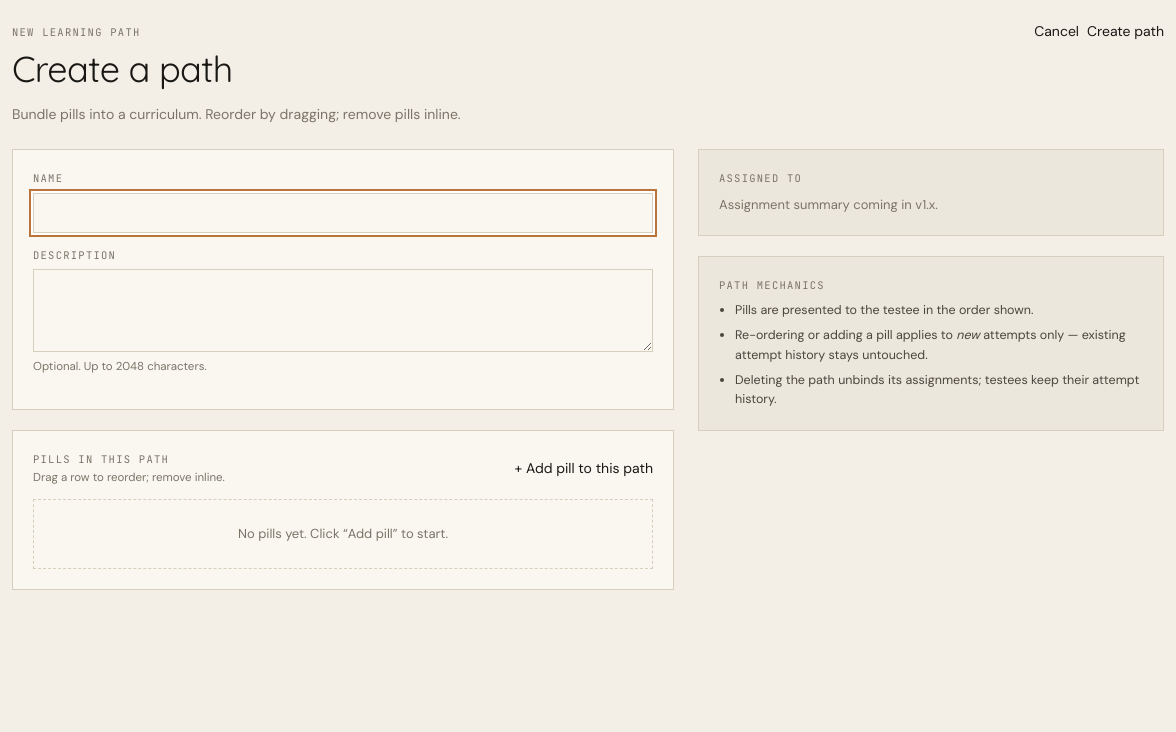
path editor — create mode (`/admin/paths/new/edit`) › rejects submit with empty pills array (zod min(1) — drift Finding #4)
Type "Empty path" into the field with test id "path-editor-name". click: coordinates (343, 212)
box: [33,192,653,232]
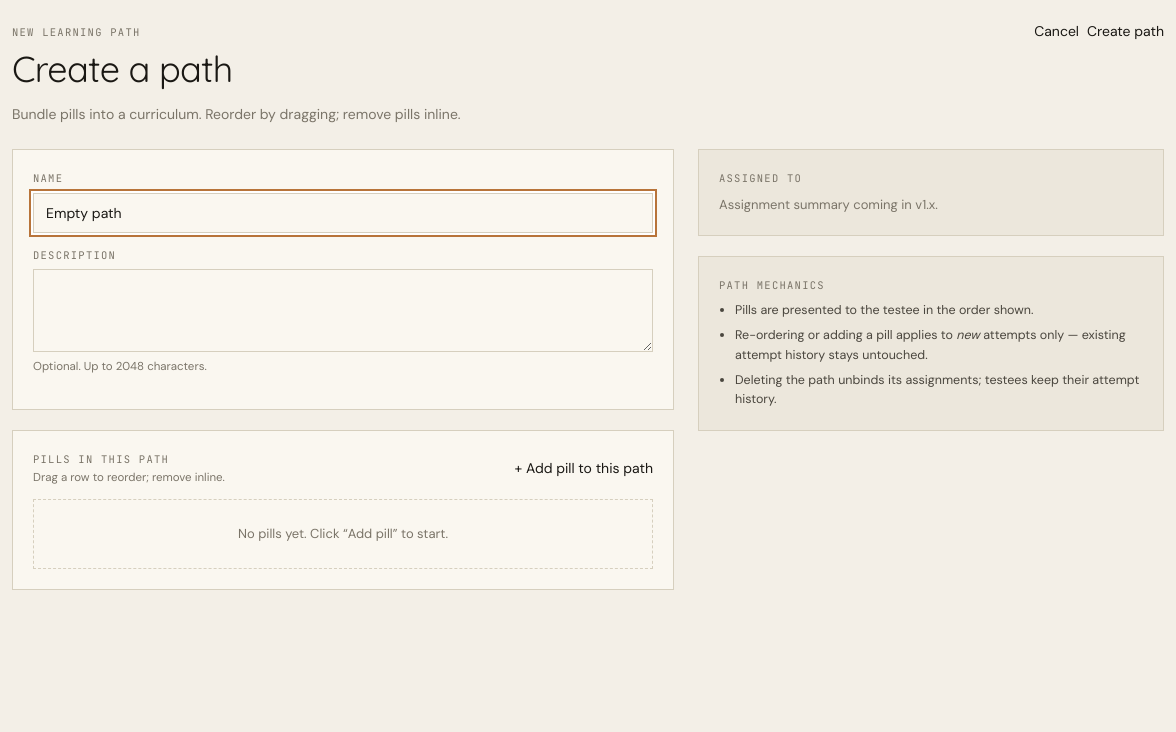
Click the button with test id "path-editor-save". click: coordinates (1126, 32)
box: [1087,12,1164,52]
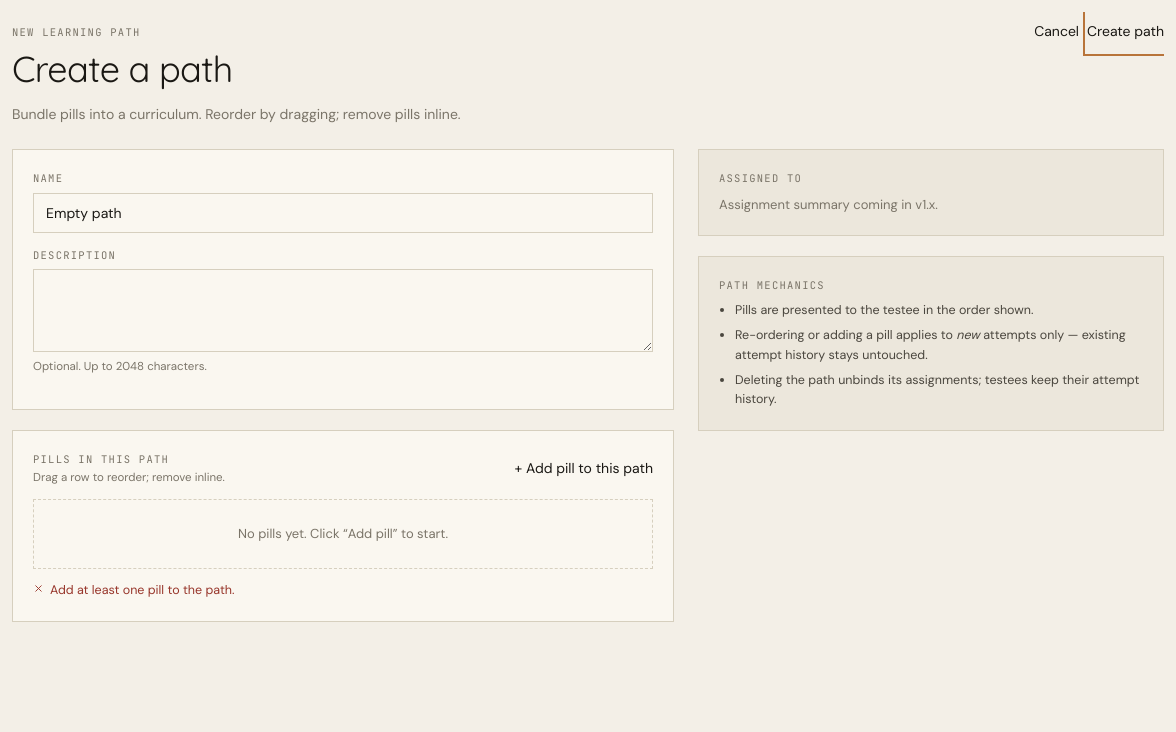
Expected: the text "Add at least one pill to the path." is shown, [50,581,234,601]
